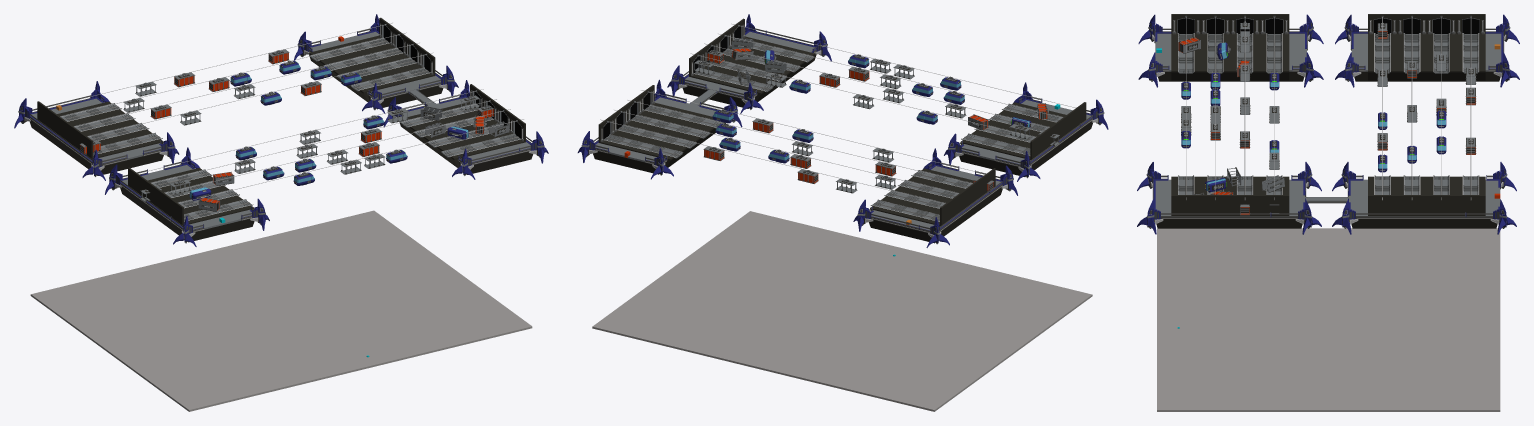
3 views of the same model, side by side, from view 1: azimuth 30°, elevation 25°; view 2: azimuth 150°, elevation 25°; view 3: azimuth 270°, elevation 25° (orthographic). The views are drawn at different scales.
Visible parts, largest first — view 1: ground.007, tram base.002, tram base.001, tram base.003, Big Platform.015, tram base.004, Big Platform.014, tram base.decor.001, Big Platform.016, Big Platform.017, tram base.decor, tram base.decor.002 (+1 smaller); view 2: ground.007, tram base.002, tram base.001, tram base.003, tram base.004, Big Platform.015, Big Platform.014, Big Platform.016, tram base.decor.001, Big Platform.017, tram base.decor, tram base.decor.002 (+1 smaller); view 3: ground.007, tram base.001, tram base.004, tram base.002, Big Platform.016, Big Platform.017, tram base.003, tram base.decor.001, Big Platform.015, tram base.decor, Big Platform.014, tram base.decor.002 (+1 smaller).
Part boxes in pixels (x1,y1,x2,y2): ground.007: [30, 210, 532, 411]; tram base.002: [309, 17, 435, 101]; tram base.001: [37, 101, 163, 159]; tram base.003: [400, 84, 525, 167]; Big Platform.015: [14, 81, 179, 180]; tram base.004: [128, 167, 253, 225]; Big Platform.014: [105, 147, 269, 246]; tram base.decor.001: [47, 22, 433, 157]; Big Platform.016: [383, 80, 548, 179]; Big Platform.017: [294, 14, 458, 113]; tram base.decor: [137, 89, 524, 223]; tram base.decor.002: [310, 23, 433, 90]; ground.007: [592, 211, 1092, 411]; tram base.002: [598, 85, 723, 167]; tram base.001: [870, 168, 995, 226]; tram base.003: [689, 18, 814, 101]; tram base.004: [960, 102, 1086, 159]; Big Platform.015: [853, 148, 1017, 247]; Big Platform.014: [944, 82, 1108, 181]; Big Platform.016: [667, 14, 831, 113]; tram base.decor.001: [600, 90, 985, 224]; Big Platform.017: [577, 79, 742, 179]; tram base.decor: [690, 23, 1076, 157]; tram base.decor.002: [600, 90, 723, 157]; ground.007: [1157, 228, 1500, 411]; tram base.001: [1368, 14, 1485, 80]; tram base.004: [1171, 14, 1289, 80]; tram base.002: [1368, 176, 1485, 215]; Big Platform.016: [1137, 162, 1321, 234]; Big Platform.017: [1332, 162, 1516, 234]; tram base.003: [1171, 176, 1289, 215]; tram base.decor.001: [1368, 15, 1484, 200]; Big Platform.015: [1335, 14, 1519, 87]; tram base.decor: [1172, 15, 1288, 199]; Big Platform.014: [1138, 14, 1323, 87]; tram base.decor.002: [1374, 175, 1479, 194].
Bounding box in the file's own units: 43467 × 35480 × 22406.
